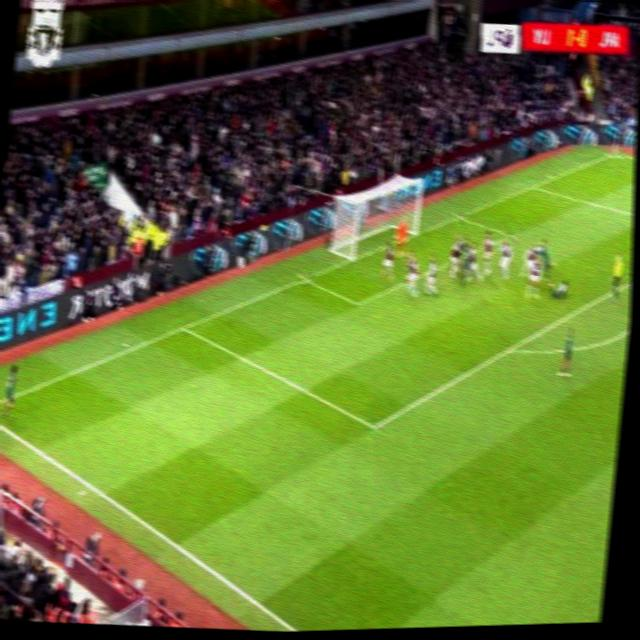bigarea_bottom_inner: (365, 411, 387, 438)
bigarea_bottom_outter: (175, 317, 192, 336)
bigarea_top_outter: (525, 176, 542, 194)
bottom_arc_area_intersection: (501, 337, 519, 359)
corner: (605, 144, 623, 161)
smallarea_bottom_inner: (349, 289, 369, 312)
smallarea_bottom_outter: (297, 267, 314, 287)
smallarea_top_inner: (503, 224, 520, 243)
smallarea_top_outter: (450, 206, 467, 225)
top_arc_area_intersection: (624, 269, 632, 287)
